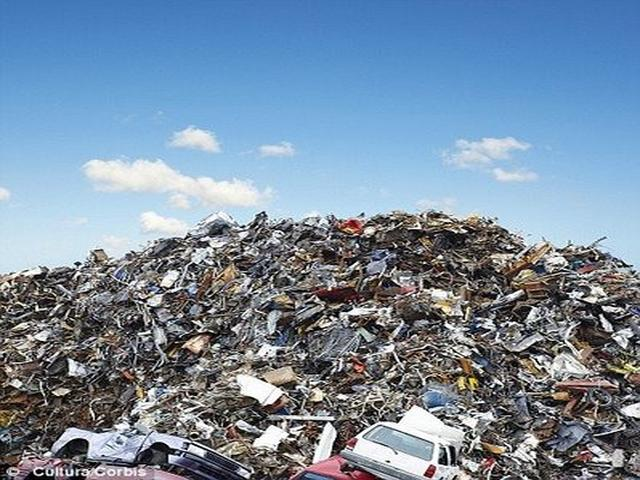garbage: (9, 276, 623, 416), (229, 226, 497, 268)
